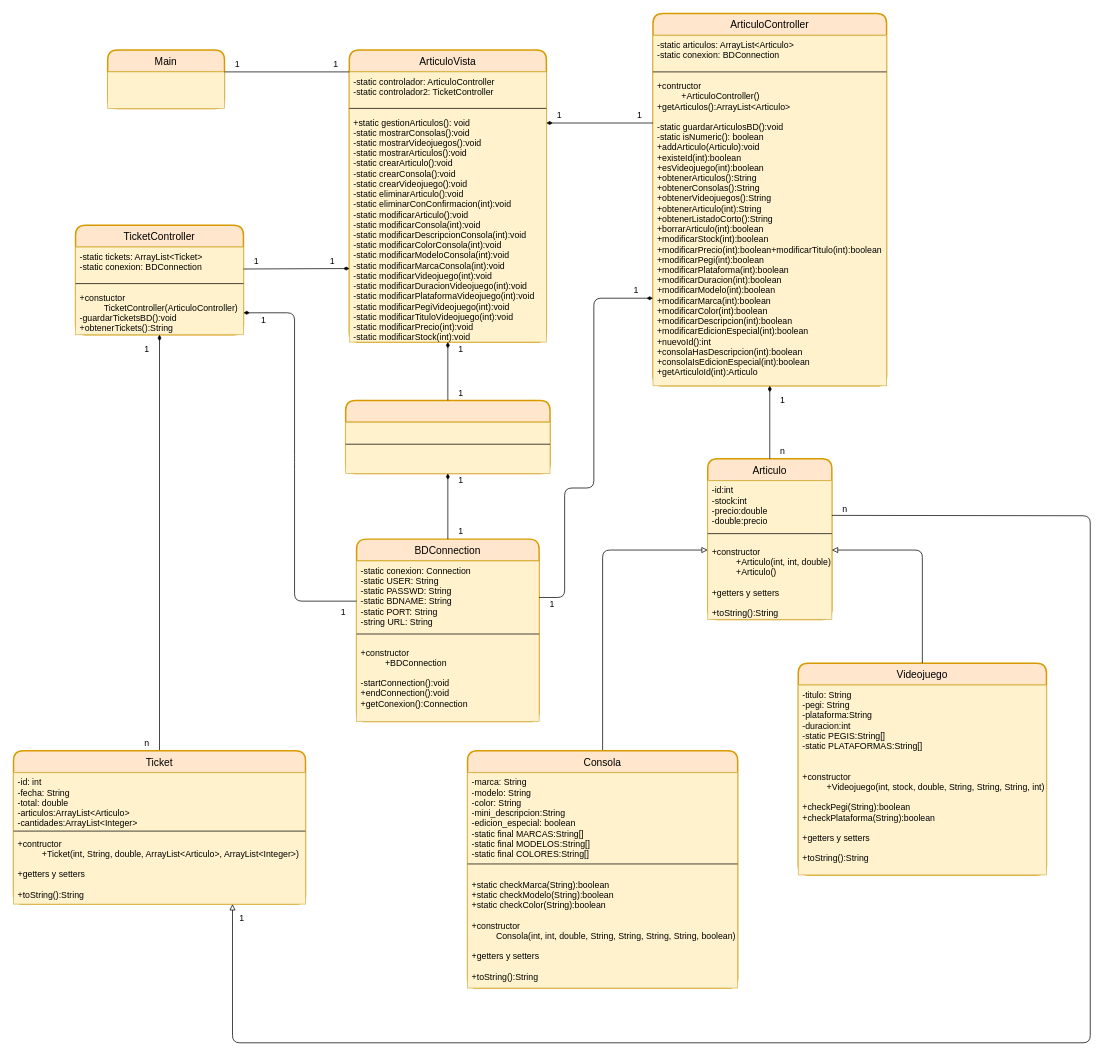
The diagram is 1109 pixels wide and 1061 high, and some of its shapes have lost their labels. Here are the shapes that lost their labels. From the top down, the box of each, then its label:
(107, 71, 224, 108): +main(String[]args) -login():void -recogerError():void
(345, 399, 550, 474): T5ArticulosVendidos
(345, 422, 550, 473): -static conexion: DBConnection +mostrarInfoT5Vendidos(ArticuloController):String
